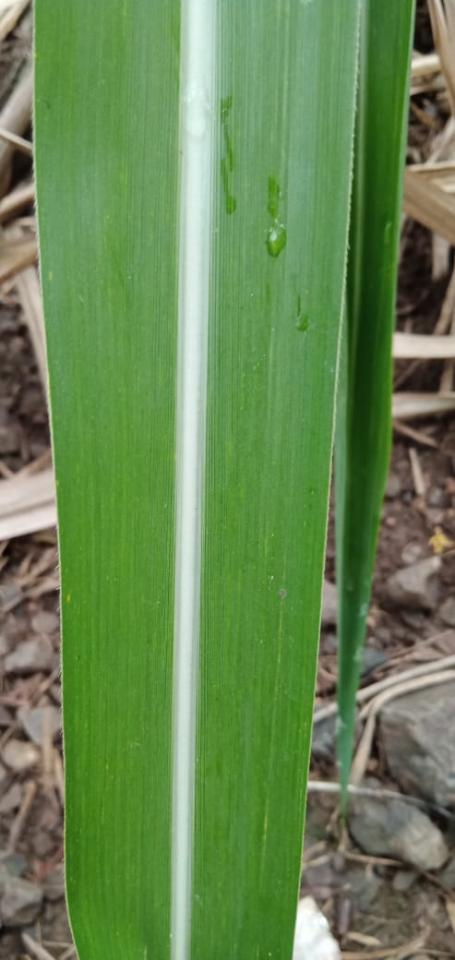Healthy: (34, 0, 359, 959), (335, 0, 415, 804)
